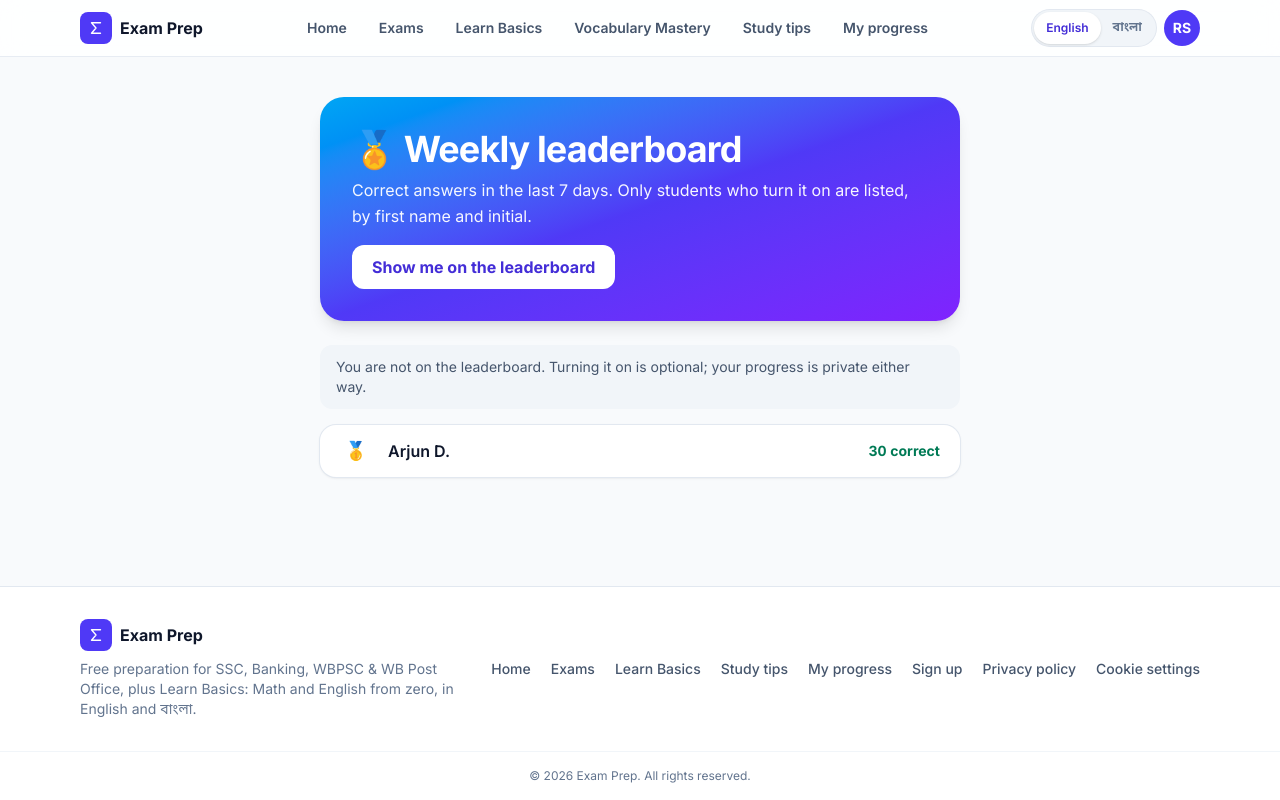
it: mastery map, weak patterns, challenge, leaderboard › leaderboard is opt-in
This screenshot has width=1280, height=800.
Expected: the text "You are not on the leaderboard" is shown, x1=336 y1=358 x2=910 y2=395
Click the button "Show me on the leaderboard" at (484, 267), box x1=352 y1=245 x2=615 y2=289
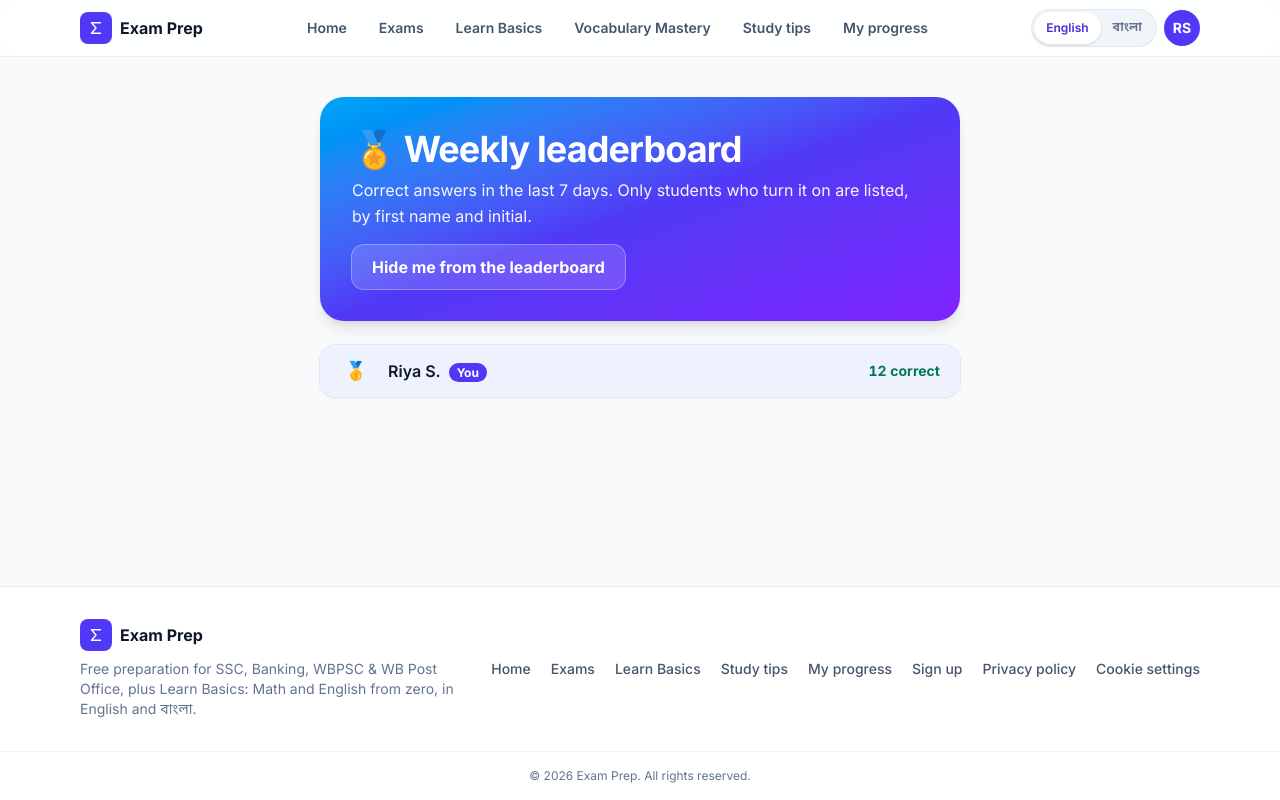
Now the text "Riya S." is shown, box x1=388 y1=361 x2=441 y2=381
